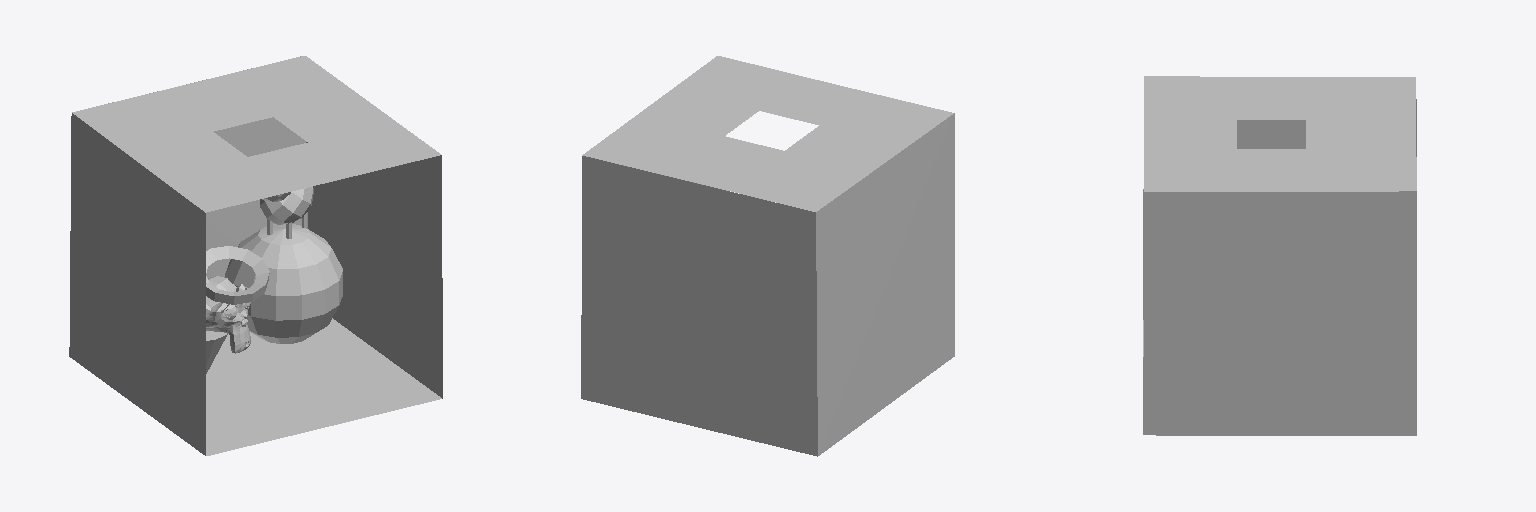
Rendered from checkerboard-subdividedd.obj.
3 views of the same model, side by side, from view 1: azimuth 30°, elevation 25°; view 2: azimuth 150°, elevation 25°; view 3: azimuth 270°, elevation 25° (orthographic).
Visible parts, largest first — view 1: Torus; view 2: Torus; view 3: Torus.
Boxes of the visible parts, x1,y1,x2,y2 form: Torus: [69, 56, 442, 455]; Torus: [581, 56, 954, 456]; Torus: [1143, 76, 1416, 435].
Size of the model in its own units: 4.3 by 4.22 by 4.29.